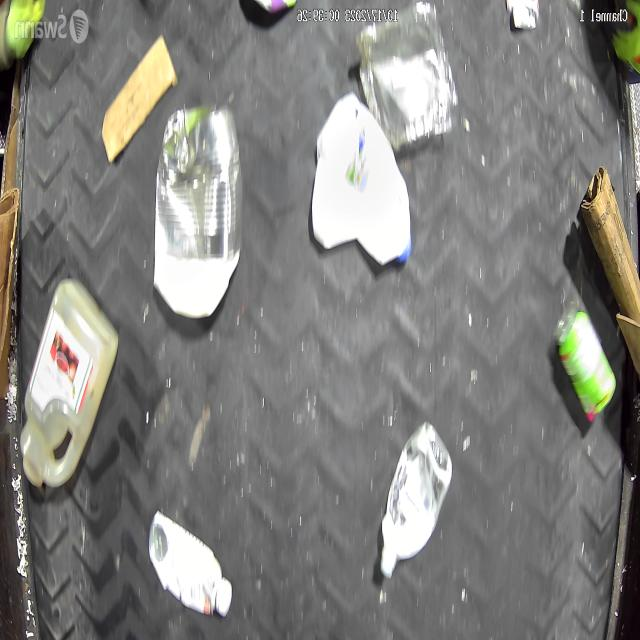can: (152, 100, 245, 261)
milk_jug: (22, 281, 118, 491), (312, 92, 413, 265)
